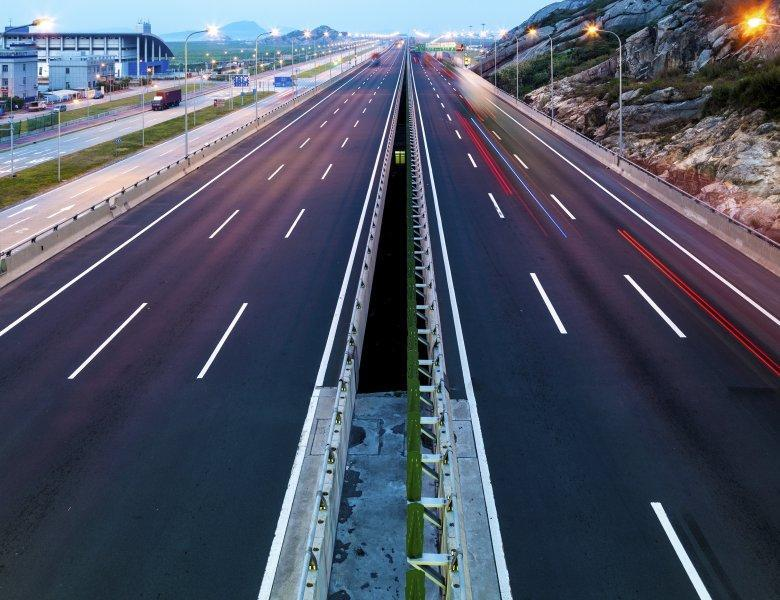car: (147, 85, 188, 112)
light: (454, 63, 498, 116), (729, 1, 780, 44), (26, 9, 61, 37), (578, 21, 607, 41), (198, 20, 225, 39), (263, 21, 285, 38), (520, 27, 543, 43), (491, 25, 513, 40), (67, 97, 85, 112), (454, 24, 470, 39), (298, 27, 315, 41), (440, 25, 453, 42), (347, 27, 362, 40), (475, 29, 490, 38), (323, 29, 335, 39)
